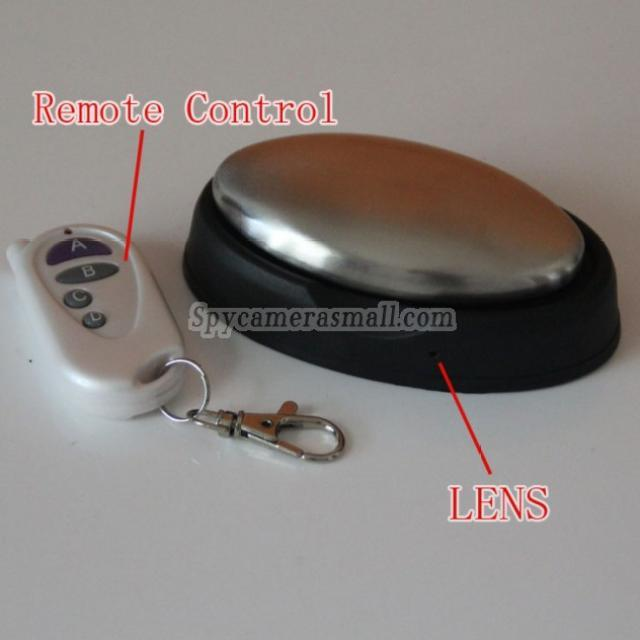hidden camera: (427, 346, 438, 361)
